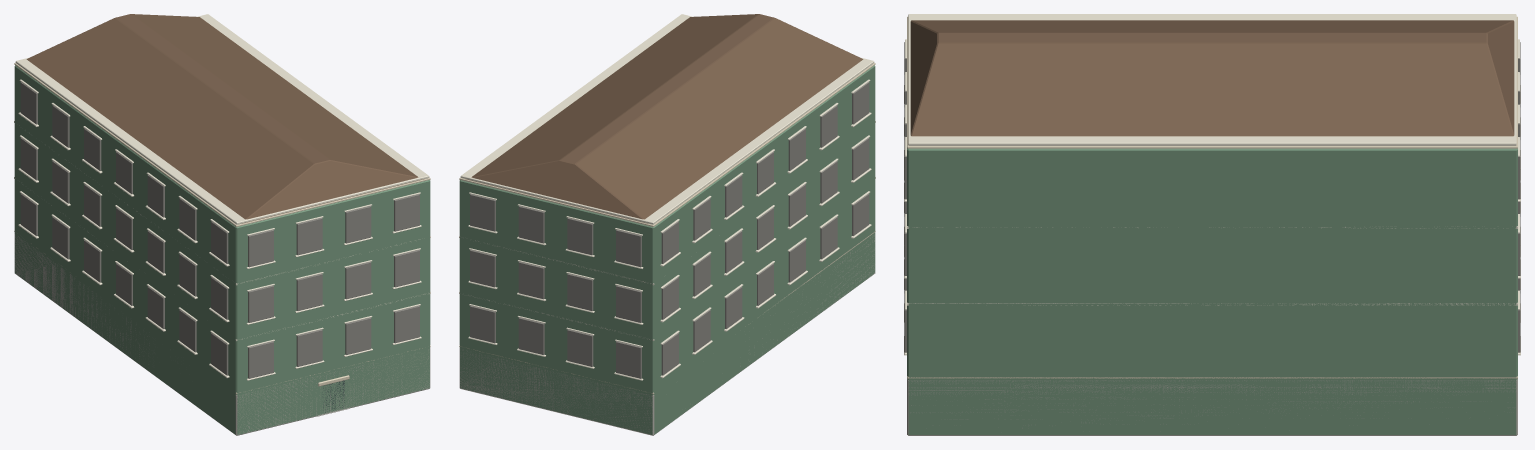
File: VG_Bld_Residential_24.fbx
3 renders of one model, left to right at view 1: azimuth 30°, elevation 25°; view 2: azimuth 150°, elevation 25°; view 3: azimuth 270°, elevation 25°, orthographic. The views are drawn at different scales.
Parts seen in each view (by area): view 1: VG_Bld_Residential_24_Body; view 2: VG_Bld_Residential_24_Body; view 3: VG_Bld_Residential_24_Body.
Boxes of the visible parts, <box> form: VG_Bld_Residential_24_Body: <box>14,14,430,435</box>; VG_Bld_Residential_24_Body: <box>459,14,875,435</box>; VG_Bld_Residential_24_Body: <box>904,14,1520,435</box>.
Size of the model in its own units: 17.76 by 20.87 by 35.
